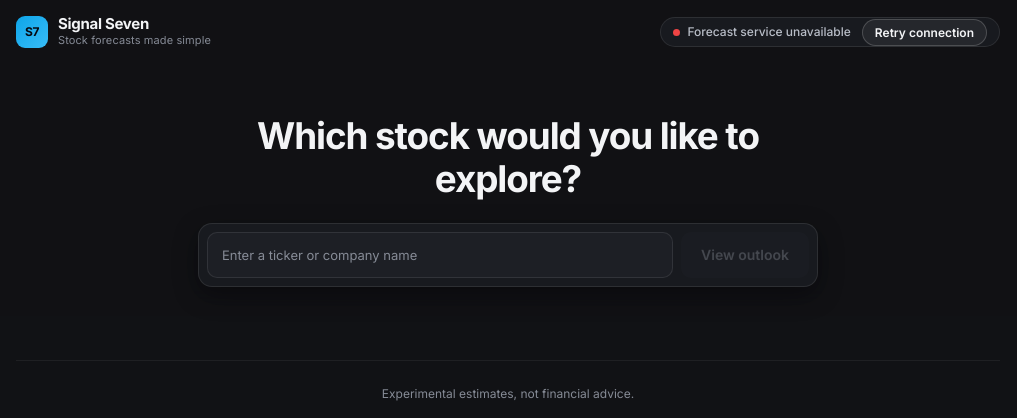
it: simplified forecast app › shows Retry connection button on offline ServiceBadge and recovers on click
Expected: the text "Forecast service unavailable" is shown, [687, 24, 851, 39]
Click the button "Retry connection": [924, 32] box [862, 18, 987, 46]
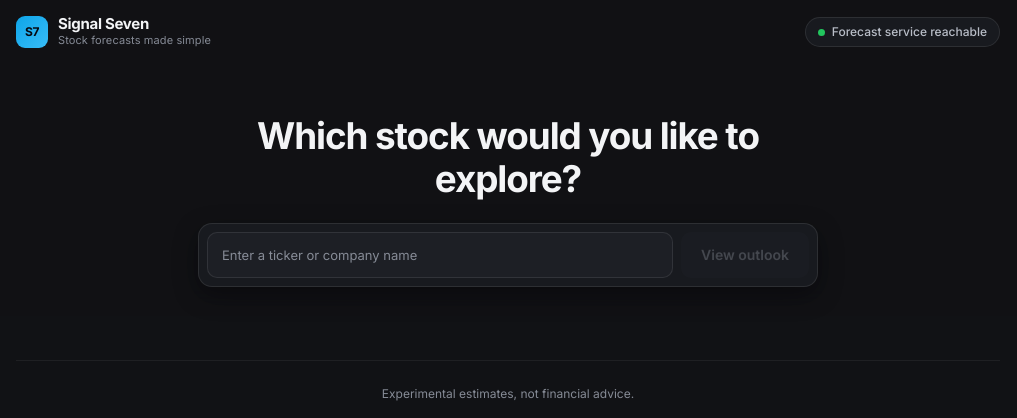
Expected: the text "Forecast service reachable" is shown, [805, 17, 1000, 47]
